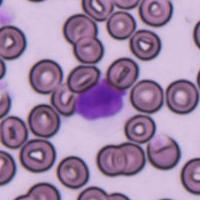M: (75, 72, 132, 126)
